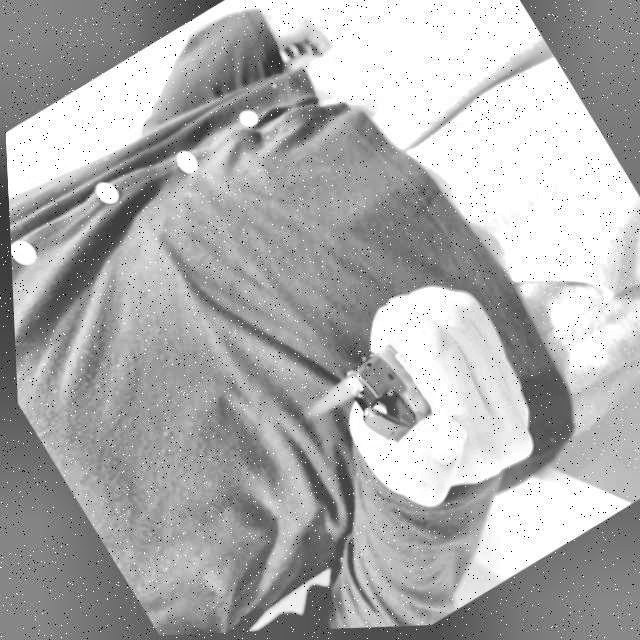Fire: (295, 372, 364, 424)
